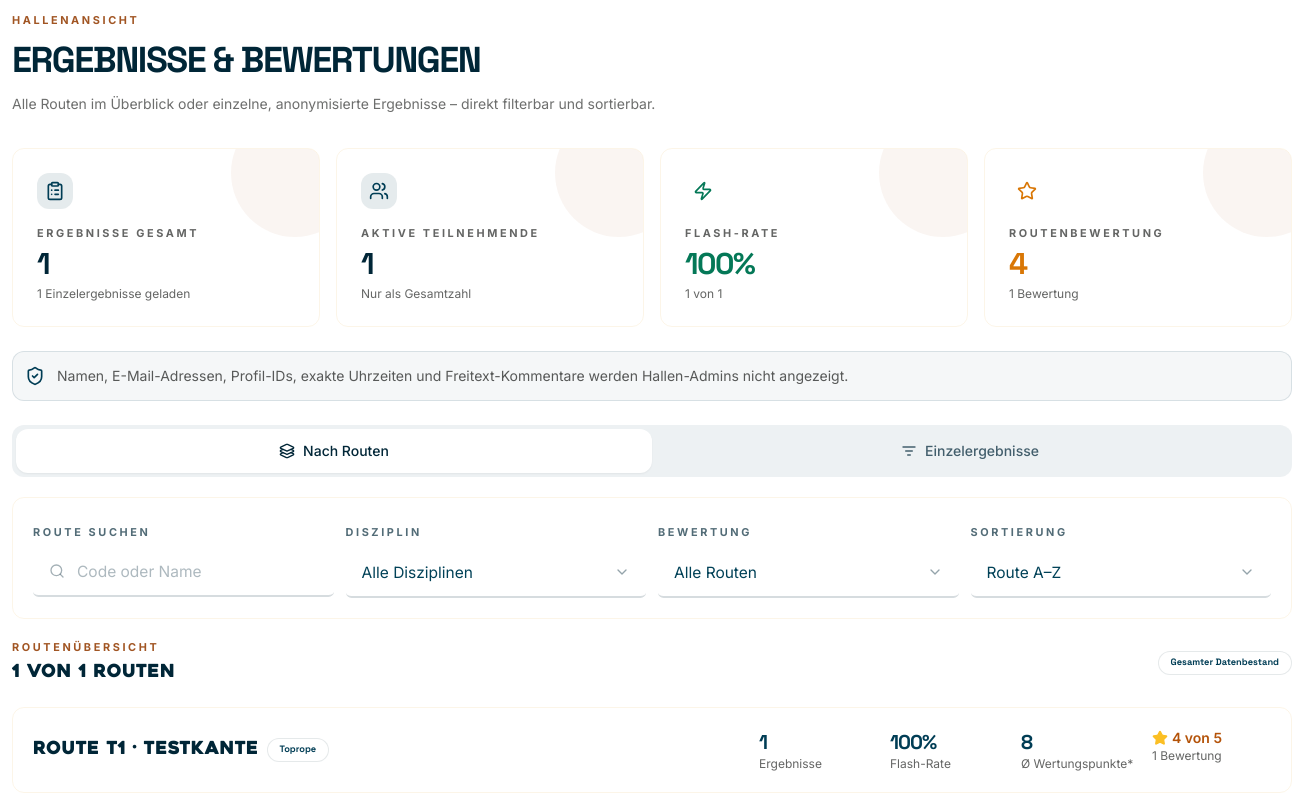
Test: GymResults › renders route results and ratings without exposing private participant data or admin actions
Expected: the heading "Route T1 · Testkante" is shown, [33, 736, 259, 764]
Expected: the text "Gesamter Datenbestand" is shown, [1158, 651, 1291, 675]
Click the tab "Einzelergebnisse".
click(970, 451)  # box [652, 429, 1288, 473]
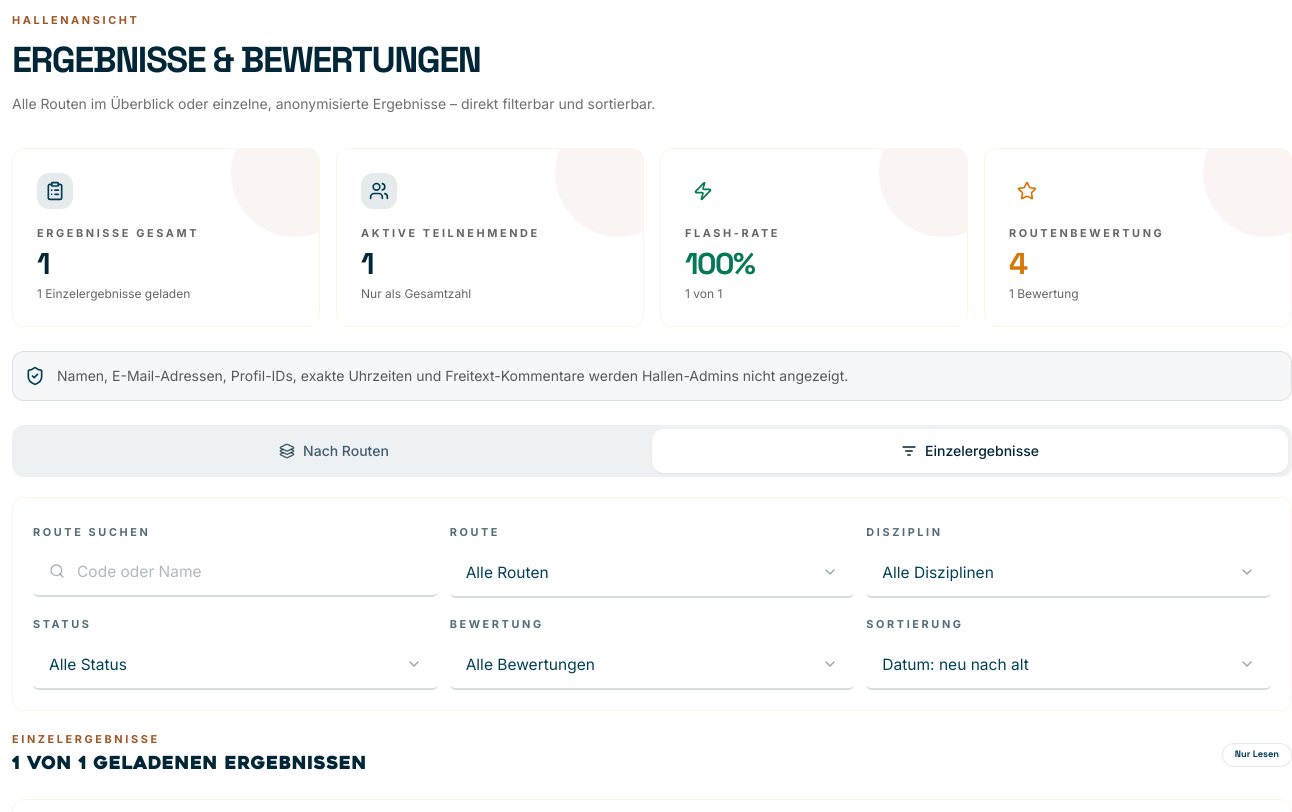
Expected: the text "Nur Lesen" is shown, [1222, 743, 1291, 767]
